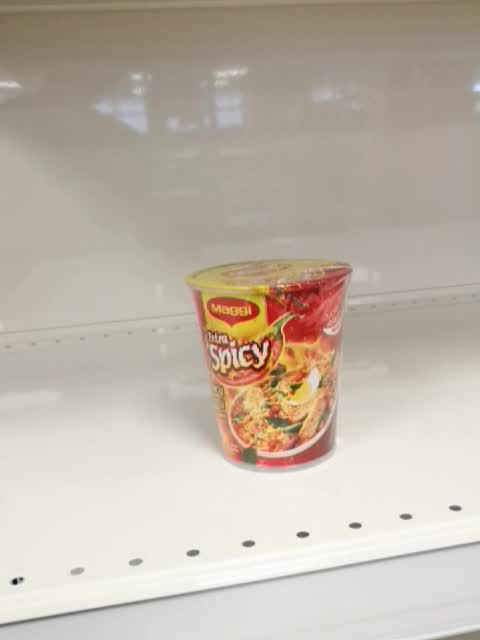maggi: (184, 257, 355, 474)
